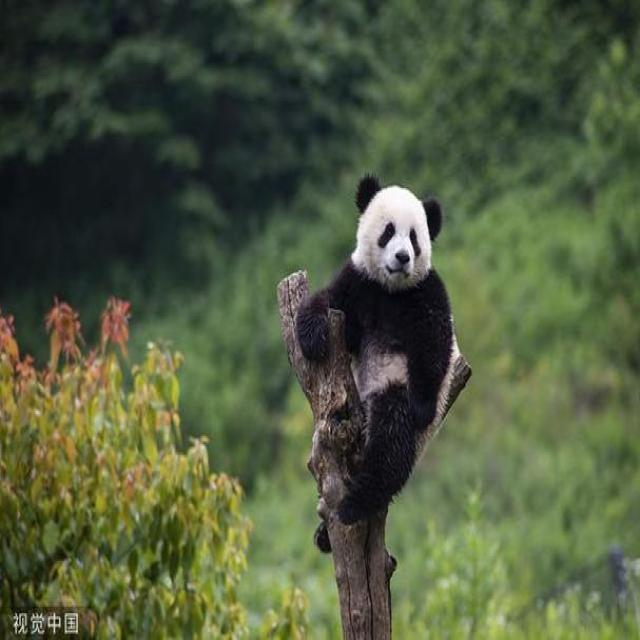panda: (322, 156, 497, 479)
